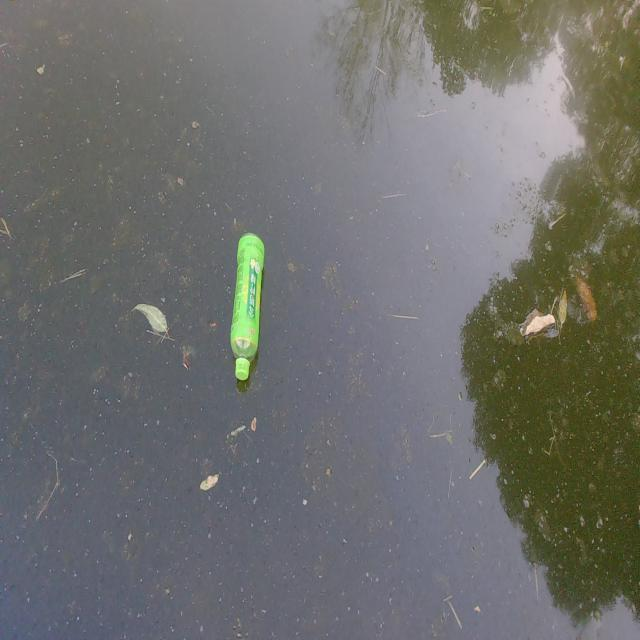garbage: (229, 231, 265, 381)
